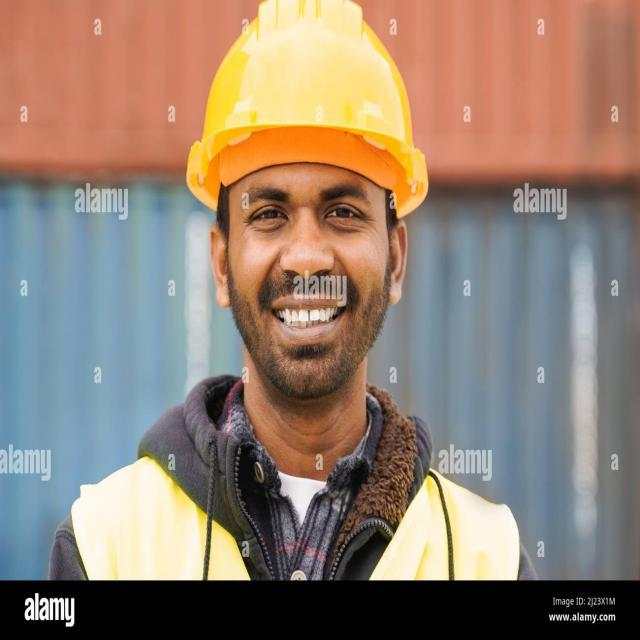reflective_jacket: (77, 389, 531, 579)
safety_helmet: (187, 4, 432, 217)
